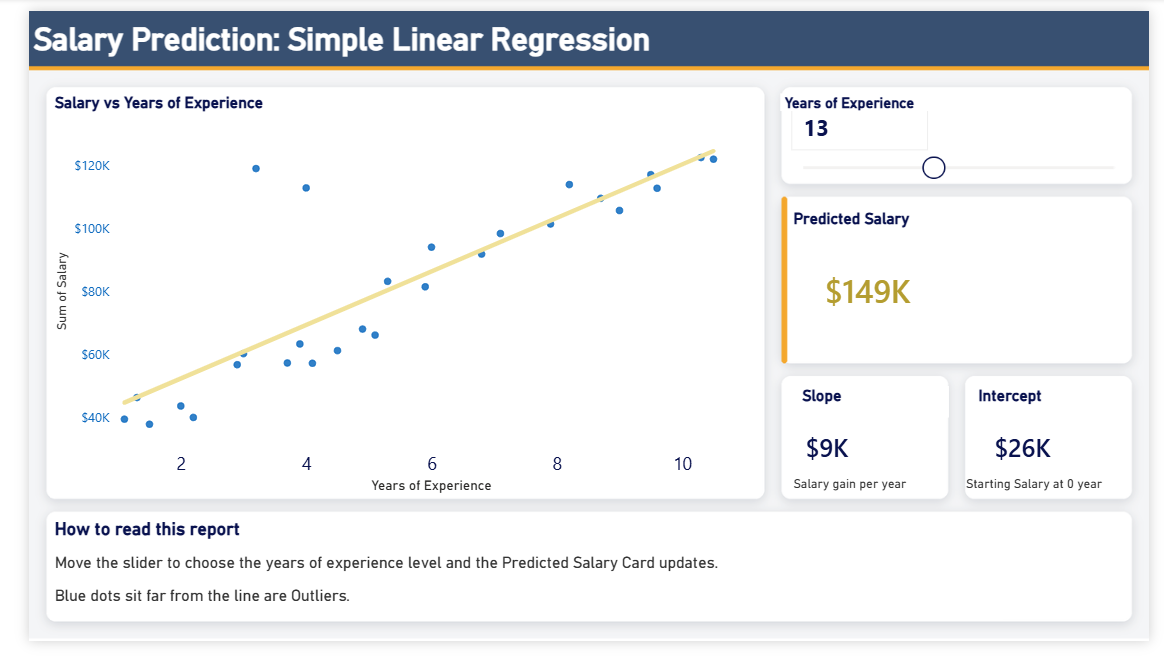

This screenshot's page, from the dashboard's own definition file:
{"tool":"powerbi","page":{"name":"Linear Regression","canvas":[1280,720],"ordinal":0},"visuals":[{"type":"scatterChart","title":"Salary vs Years of Experience","fields":{"Y":["Sum(Salary_Data.Salary)"],"X":["Sum(Salary_Data.YearsExperience)"]},"box":[24.3,94.3,810,461.4],"z":0},{"type":"slicer","fields":{"Values":["Future Xperience.Future Xperience"]},"box":[858.6,94.3,404.3,101.4],"z":1000},{"type":"cardVisual","fields":{"Data":["Future Xperience.9. Future Y(Salary)"]},"box":[868.6,264.3,394.3,134.3],"z":2000},{"type":"cardVisual","fields":{"Data":["Calculations.7. A (SLOPE)"]},"box":[858.6,464.3,192.9,91.4],"z":2001},{"type":"cardVisual","fields":{"Data":["Calculations.8. B (INTERCEPT)"]},"box":[1074.3,464.3,178.6,91.4],"z":2003},{"type":"textbox","title":"Salary Prediction:  Simple Linear Regression","box":[0,11.4,1262.9,51.4],"z":2004},{"type":"textbox","title":"Predicted Salary","box":[868.6,227.1,384.3,37.1],"z":2005},{"type":"textbox","title":"Slope","box":[878.6,428.6,172.9,35.7],"z":2006},{"type":"textbox","title":"Intercept","box":[1080,428.6,172.9,35.7],"z":2007},{"type":"textbox","title":"Years of Experience","box":[858.6,94.3,394.3,20],"z":2008},{"type":"textbox","title":"Salary gain per year","box":[868.6,531.4,172.9,24.3],"z":2009},{"type":"textbox","title":"Starting Salary at 0 year","box":[1065.7,531.4,187.1,24.3],"z":2010},{"type":"textbox","title":"How to read this report","box":[24.3,580,1215.7,30],"z":2011},{"type":"textbox","title":"Move the slider to choose the years of experience level and the Predicted  Salary Card updates.","box":[24.3,620,1088.6,37.1],"z":2012},{"type":"textbox","title":"Blue dots sit far from the line are Outliers.","box":[24.3,657.1,1088.6,38.6],"z":2013}]}

Visuals, with their boxes in screenshot pixels (x1, y1, x2, y2), scaled from the page's 1280x720 canvas onto the 1164x669 screenshot:
"Salary vs Years of Experience" scatterChart: region(22, 88, 759, 516)
slicer - Future Xperience.Future Xperience: region(781, 88, 1148, 182)
cardVisual - Future Xperience.9. Future Y(Salary): region(790, 246, 1148, 370)
cardVisual - Calculations.7. A (SLOPE): region(781, 431, 956, 516)
cardVisual - Calculations.8. B (INTERCEPT): region(977, 431, 1139, 516)
"Salary Prediction:  Simple Linear Regression" textbox: region(0, 11, 1148, 58)
"Predicted Salary" textbox: region(790, 211, 1139, 245)
"Slope" textbox: region(799, 398, 956, 431)
"Intercept" textbox: region(982, 398, 1139, 431)
"Years of Experience" textbox: region(781, 88, 1139, 106)
"Salary gain per year" textbox: region(790, 494, 947, 516)
"Starting Salary at 0 year" textbox: region(969, 494, 1139, 516)
"How to read this report" textbox: region(22, 539, 1128, 567)
"Move the slider to choose the years of experience level and the Predicted  Salary Card updates." textbox: region(22, 576, 1012, 611)
"Blue dots sit far from the line are Outliers." textbox: region(22, 611, 1012, 646)
